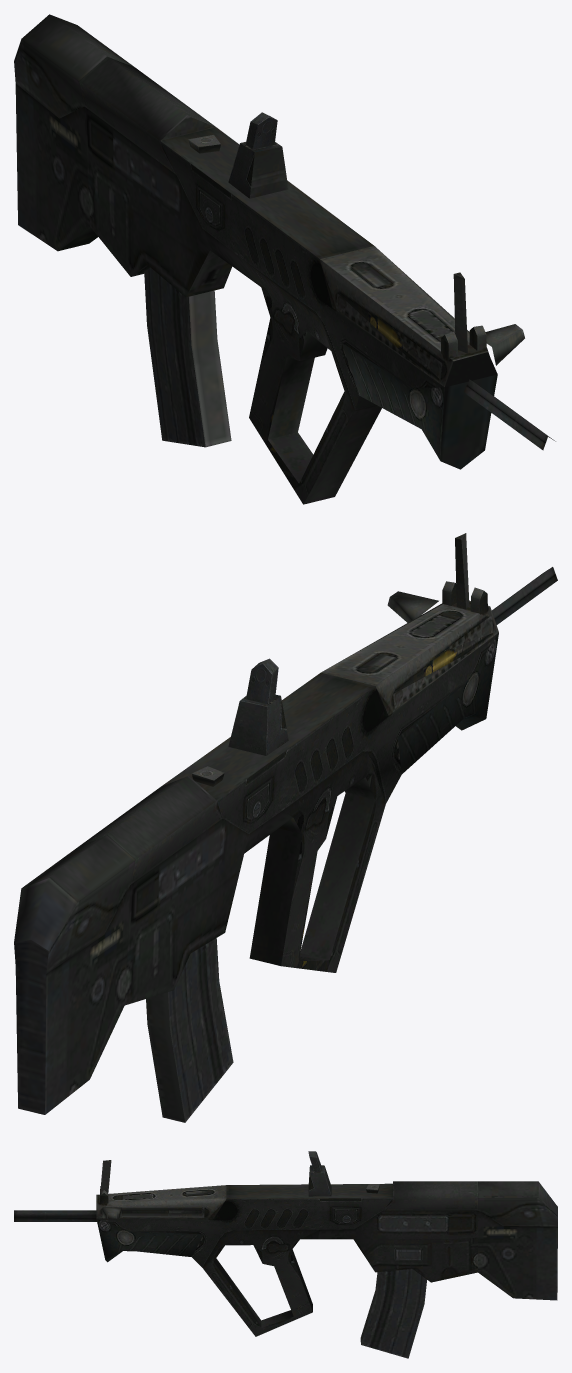
File: Assault_Rifle_pw_1054_TAR21_dj_lod2_Body_LOD_(000722).glb
3 renders of one model, top to bottom at view 1: azimuth 30°, elevation 25°; view 2: azimuth 150°, elevation 25°; view 3: azimuth 270°, elevation 25°, orthographic. The views are drawn at different scales.
Parts seen in each view (by area): view 1: pw_1054_TAR21_dj_lod2; view 2: pw_1054_TAR21_dj_lod2; view 3: pw_1054_TAR21_dj_lod2.
Boxes of the visible parts, bbox=[...] form: pw_1054_TAR21_dj_lod2: bbox=[14, 14, 555, 504]; pw_1054_TAR21_dj_lod2: bbox=[14, 533, 557, 1122]; pw_1054_TAR21_dj_lod2: bbox=[14, 1151, 557, 1358].
Bounding box in the file's own units: 0.0904 × 0.3566 × 0.8586.
Materials: 1 (1 with a texture image).
